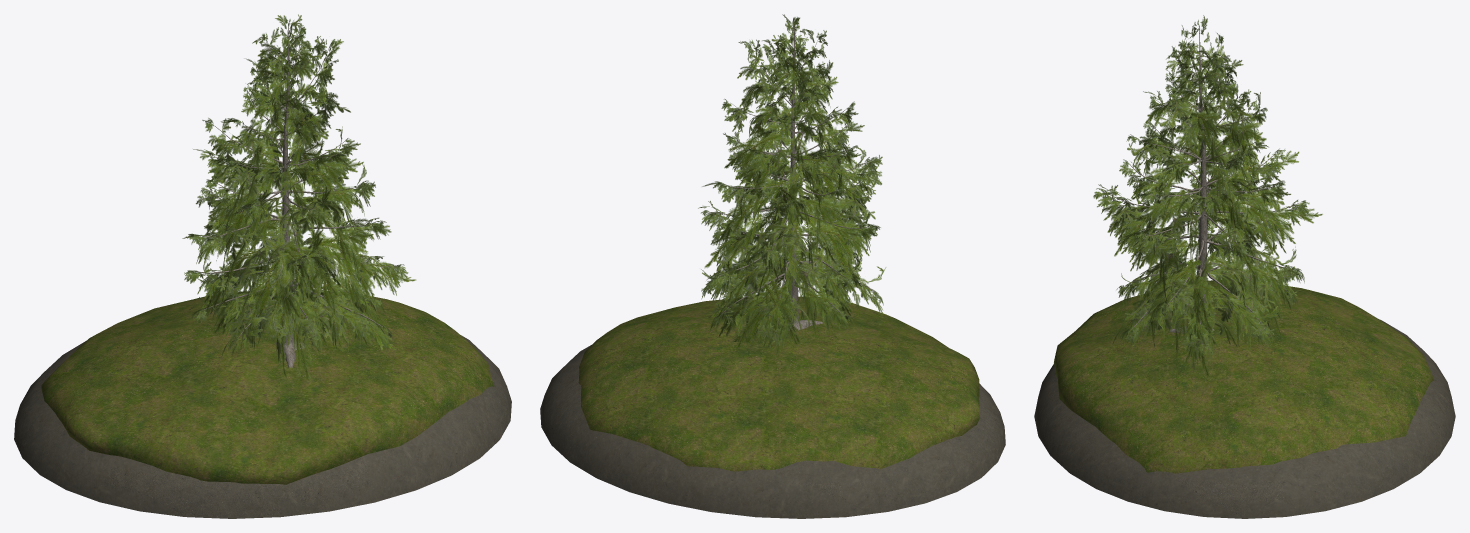
The model's file is cheapisland.glb.
3 renders of one model, left to right at view 1: azimuth 30°, elevation 25°; view 2: azimuth 150°, elevation 25°; view 3: azimuth 270°, elevation 25°, orthographic. The views are drawn at different scales.
Parts seen in each view (by area): view 1: Grass, Example, sand, bq_Bark_Juniperus_osteosperma_Diffuse; view 2: Grass, Example, sand, bq_Bark_Juniperus_osteosperma_Diffuse; view 3: Grass, Example, sand, bq_Bark_Juniperus_osteosperma_Diffuse.
Boxes of the visible parts, box(x1,y1,x2,y2) form: Grass: box(41, 291, 494, 484); Example: box(182, 14, 416, 380); sand: box(14, 335, 511, 518); bq_Bark_Juniperus_osteosperma_Diffuse: box(195, 23, 396, 367); Grass: box(578, 296, 979, 471); Example: box(698, 14, 886, 356); sand: box(540, 345, 1005, 518); bq_Bark_Juniperus_osteosperma_Diffuse: box(708, 23, 876, 335); Grass: box(1054, 280, 1433, 473); Example: box(1093, 15, 1322, 376); sand: box(1034, 319, 1455, 518); bq_Bark_Juniperus_osteosperma_Diffuse: box(1108, 25, 1299, 344).
Size of the model in its own units: 6.2 by 5.62 by 5.38.
4 materials, 4 textured.
